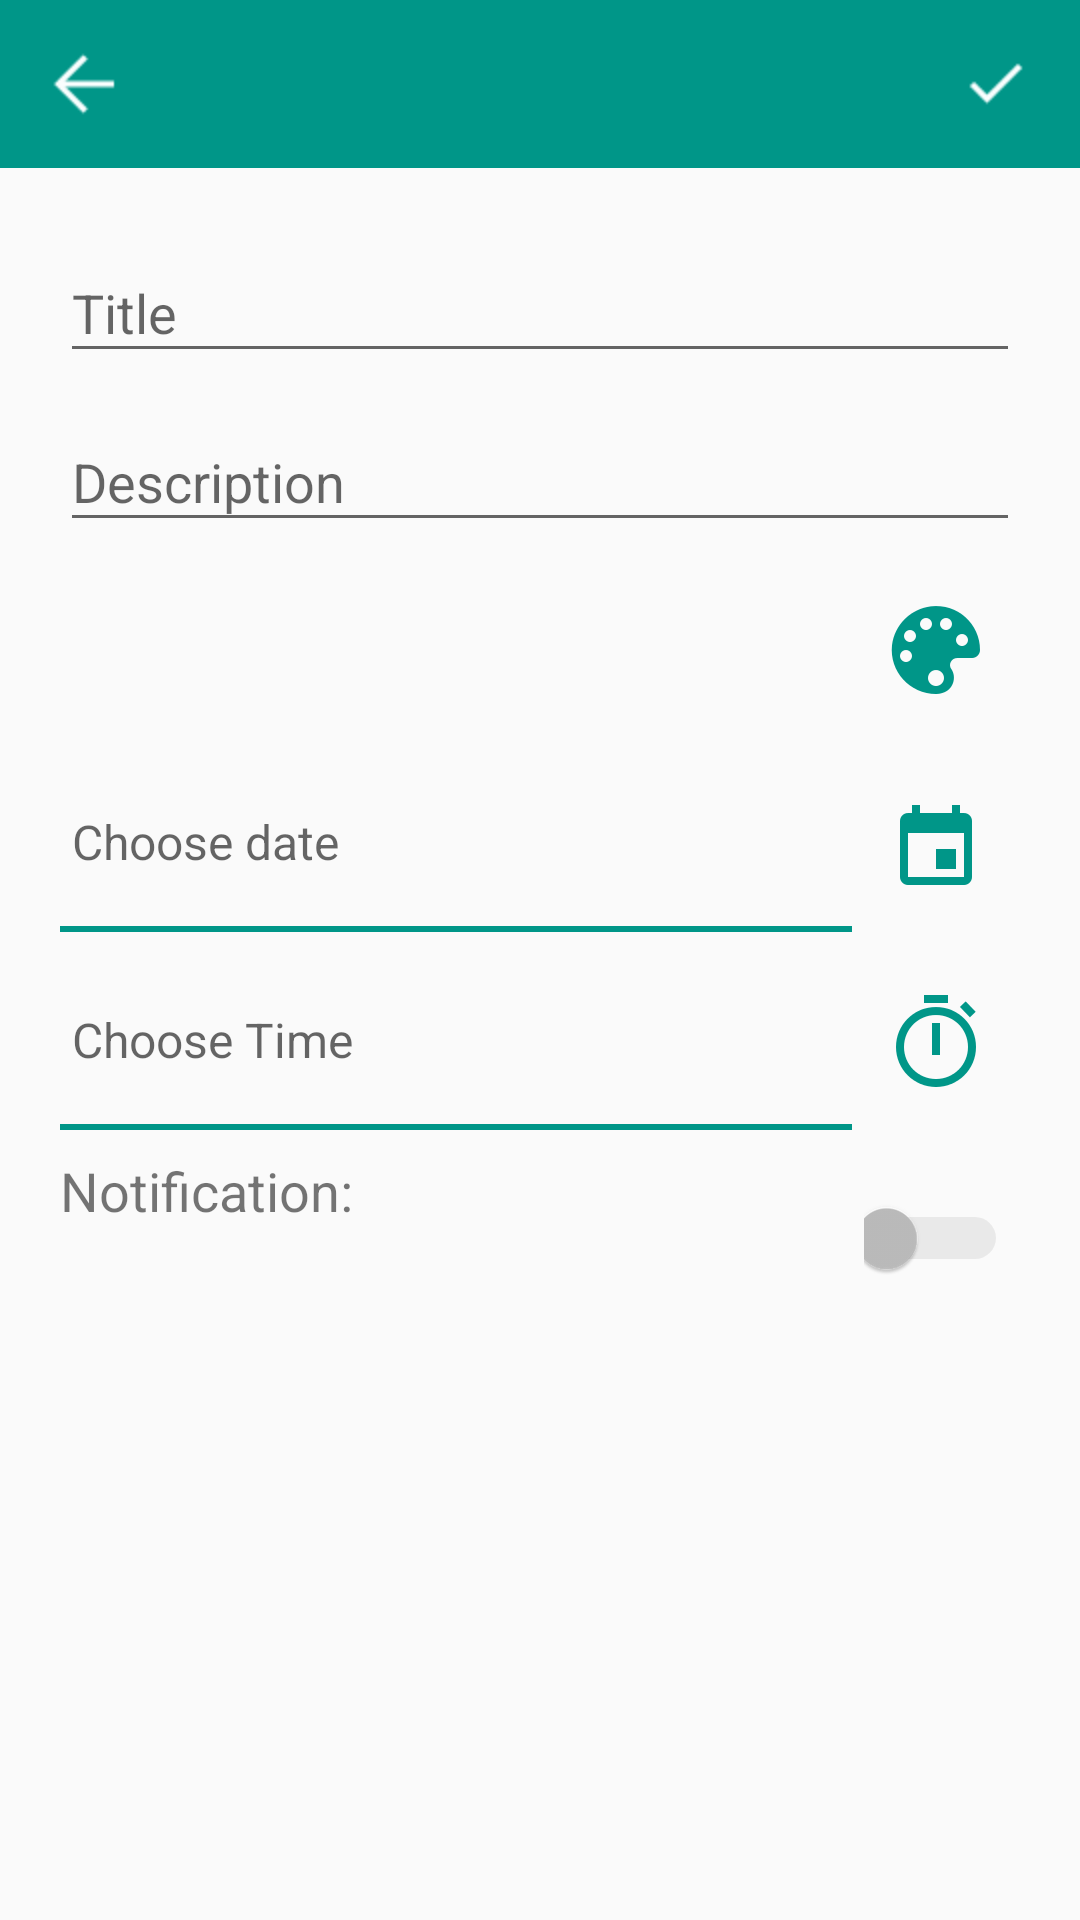

Locate icon controls on the screen. Image size 1080x1920, boxes as (x1,y1,x2,y2).
calendar: (900,805,972,885)
done: (969,63,1023,104)
left: (53,54,115,114)
